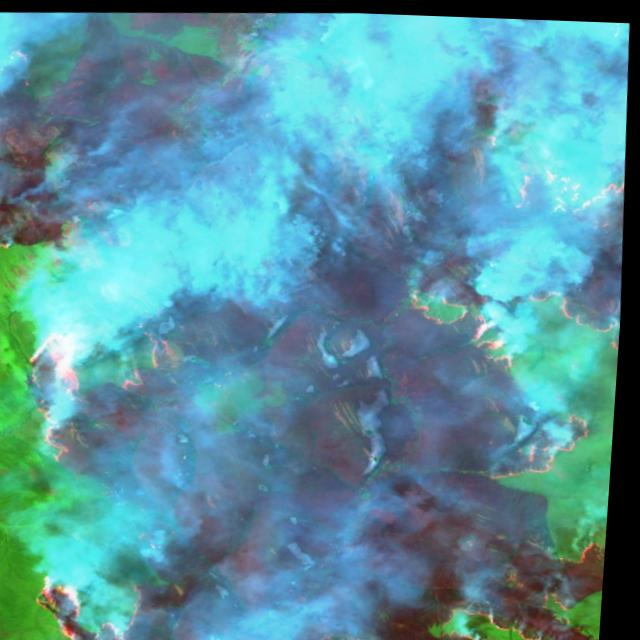fire: (0, 136, 633, 640)
